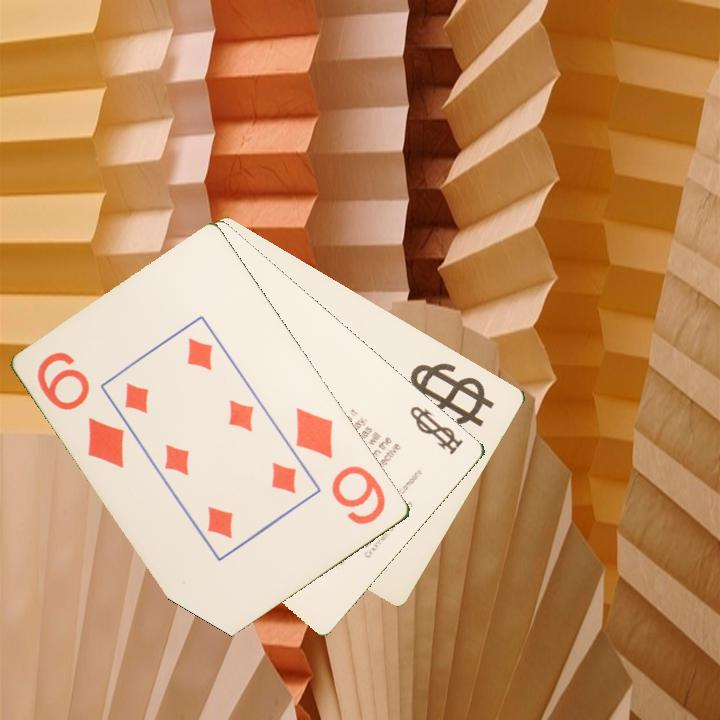6d: (292, 403, 390, 528), (33, 348, 128, 472)
JK: (413, 365, 483, 417), (407, 402, 467, 458)
